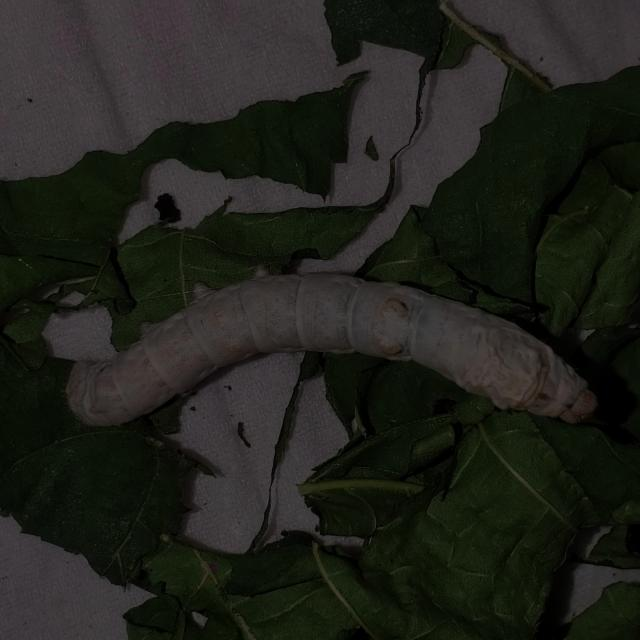Healthy: (49, 240, 616, 474)
